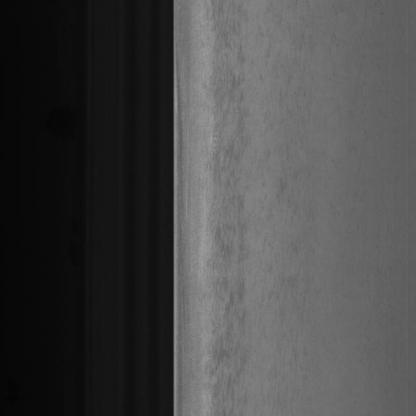silk_spot: (212, 42, 253, 393)
